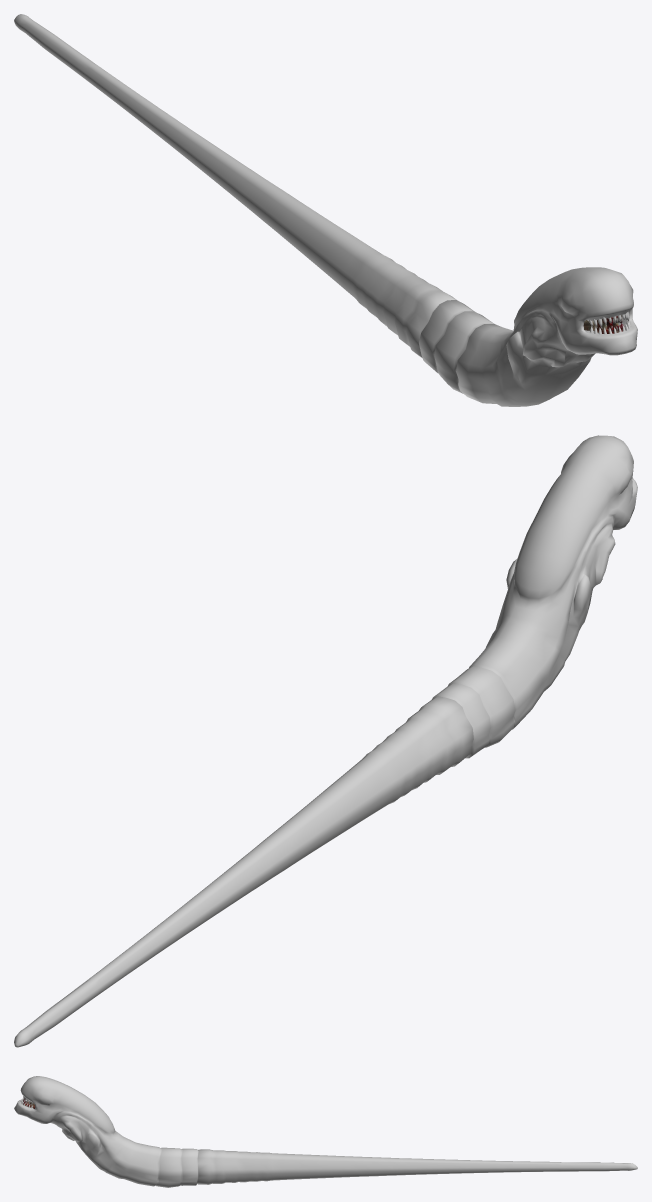
Rendered from Chestburster.fbx.
The picture shows the model from 3 angles, top to bottom: view 1: azimuth 30°, elevation 25°; view 2: azimuth 150°, elevation 25°; view 3: azimuth 270°, elevation 25°; orthographic projection. The views are drawn at different scales.
Visible parts, largest first — view 1: default; view 2: default; view 3: default.
Part boxes in pixels (box(x1,y1,x2,y2)): default: box(14, 14, 637, 406); default: box(14, 435, 637, 1047); default: box(14, 1076, 637, 1187).
Bounding box in the file's own units: 0.1122 × 0.2823 × 1.49.
